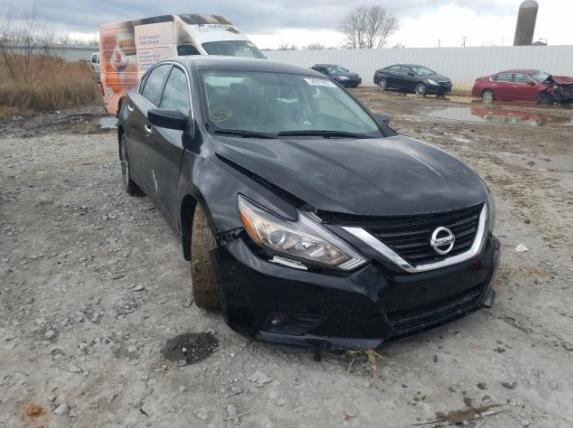Back-door: (123, 60, 176, 179)
Back-wheel: (118, 128, 134, 193)
Back-window: (139, 65, 174, 104)
Fender: (171, 133, 302, 253)
Front-bumper: (209, 233, 501, 352)
Front-door: (141, 62, 194, 220)
Front-wheel: (190, 200, 220, 310)
Front-window: (160, 66, 190, 119)
Grille: (324, 197, 493, 275)
Headlight: (236, 192, 370, 278), (490, 196, 497, 233)
Hood: (204, 132, 490, 216)
Mirror: (147, 108, 191, 130), (371, 113, 390, 126)
Quarter-panel: (117, 86, 135, 128)
Rocker-panel: (129, 170, 180, 236)
Roof: (169, 55, 329, 78)
Windshield: (197, 69, 396, 139)
